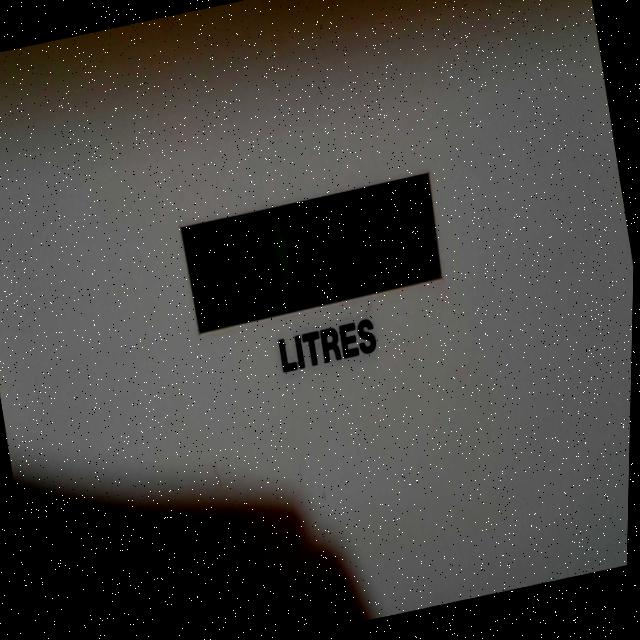.: (344, 272, 356, 289)
0: (346, 191, 389, 284)
1: (238, 214, 272, 305), (396, 188, 430, 272)
4: (306, 206, 344, 292)
7: (269, 207, 310, 297)
